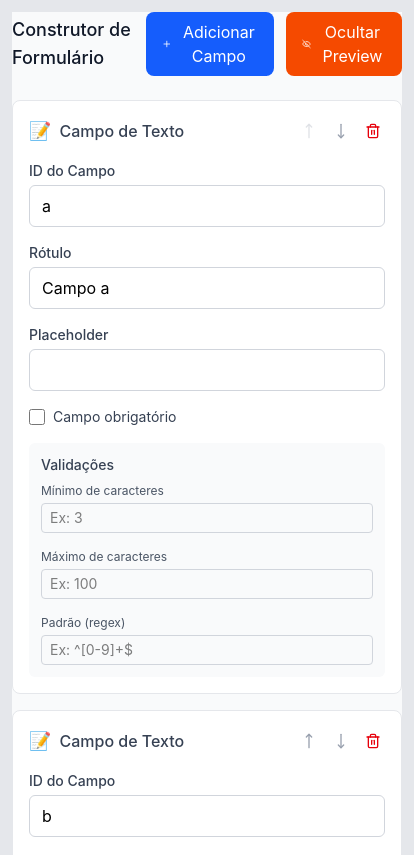
Test: FormBuilder › moves a field up/down and deletes it
expect the 1st button titled "Mover para cima" is disabled: met, box [297,119,321,143]
move second item up
What coordinates should you click on to do the following:
click the 2nd button titled "Mover para cima"
I would click on:
 (309, 741)
Its box is [297,729,321,753].
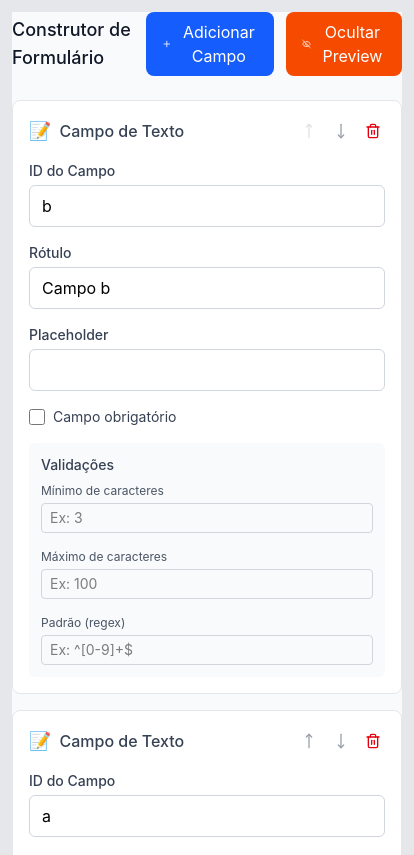
expect the 2nd field showing "Campo " holds "Campo b": met, box [29,267,385,309]
delete first field
What coordinates should you click on to do the following:
click the 1st button titled "Excluir campo"
I would click on:
 (373, 131)
Its box is [361,119,385,143].
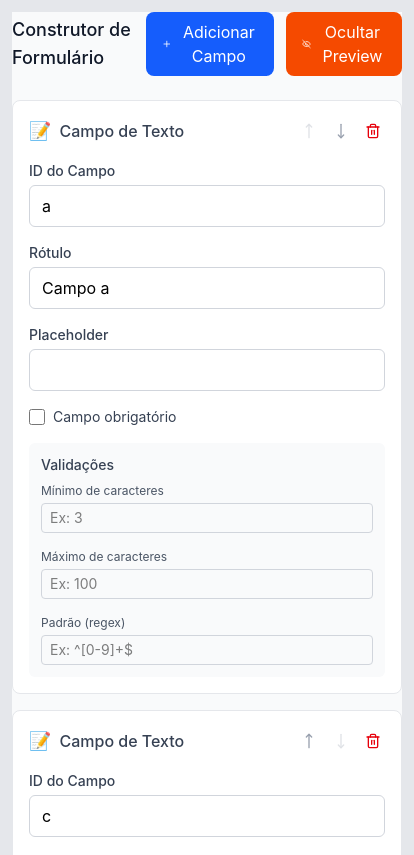
expect the number of fields showing "Campo " is 2: met
